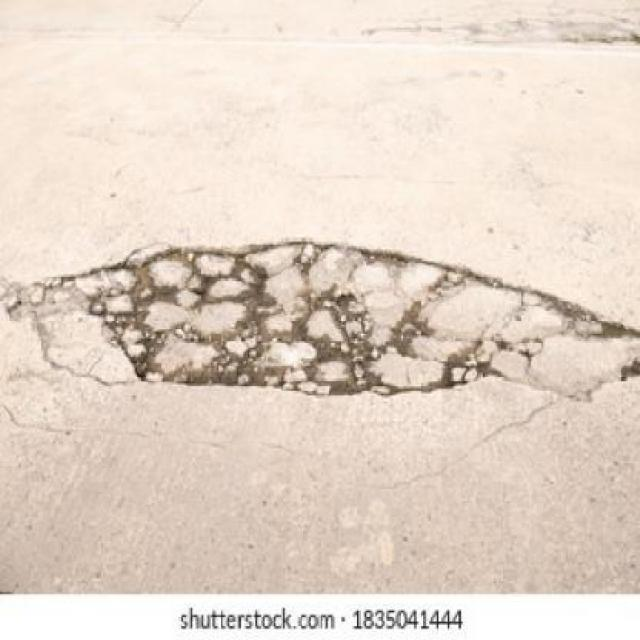Pothole: (27, 235, 635, 407)
